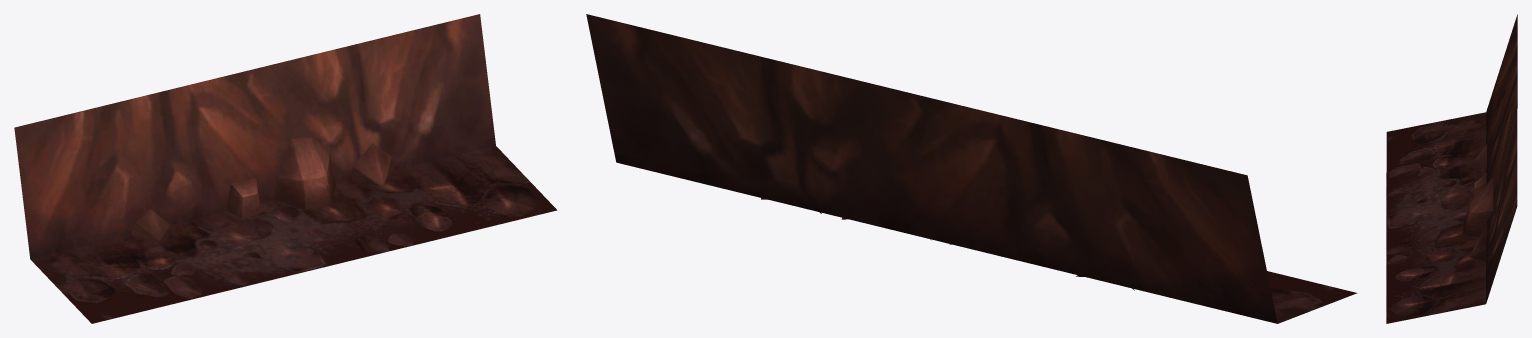
Rendered from lava_trim_straight_03.fbx.
3 views of the same model, side by side, from view 1: azimuth 30°, elevation 25°; view 2: azimuth 150°, elevation 25°; view 3: azimuth 270°, elevation 25° (orthographic). The views are drawn at different scales.
Visible parts, largest first — view 1: obj1.027; view 2: obj1.027; view 3: obj1.027.
Part boxes in pixels (x1,y1,x2,y2): obj1.027: (14,14,557,323); obj1.027: (586,14,1357,323); obj1.027: (1386,14,1517,323).
Size of the model in its own units: 4.02 by 1.15 by 1.15.
